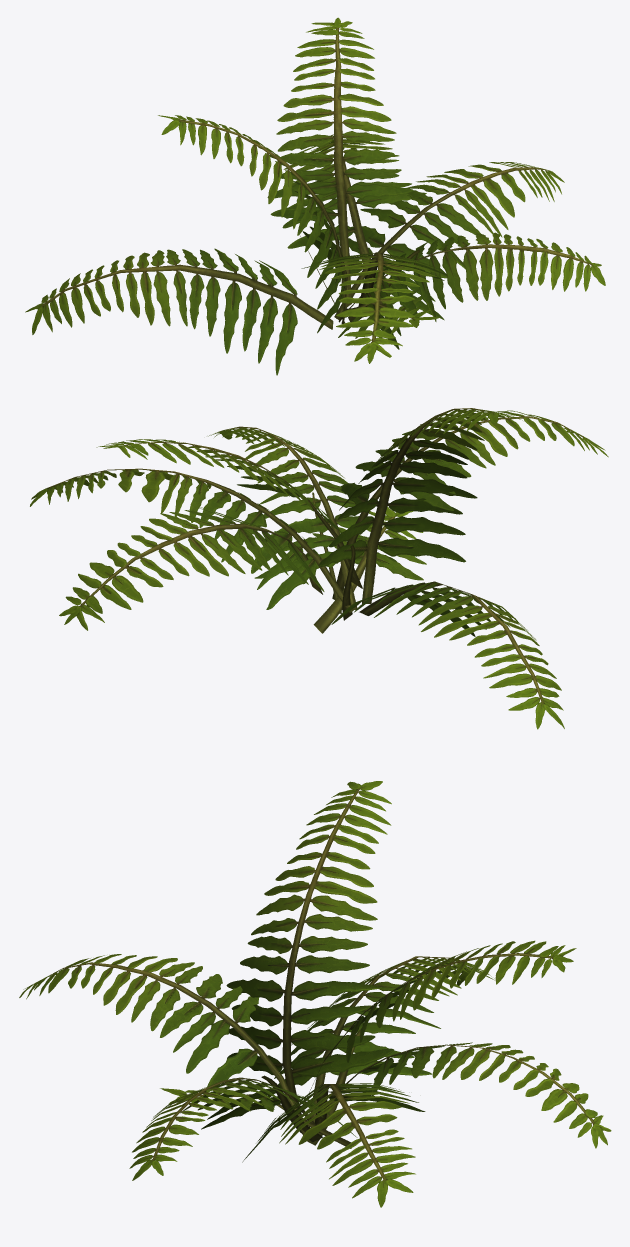
The model's file is fern2.FBX.
3 views of the same model, one above another, from view 1: azimuth 30°, elevation 25°; view 2: azimuth 150°, elevation 25°; view 3: azimuth 270°, elevation 25° (orthographic). The views are drawn at different scales.
Visible parts, largest first — view 1: FERN2_LOD0; view 2: FERN2_LOD0; view 3: FERN2_LOD0.
Part boxes in pixels (bbox=[...]): FERN2_LOD0: bbox=[25, 17, 605, 375]; FERN2_LOD0: bbox=[30, 408, 608, 729]; FERN2_LOD0: bbox=[19, 781, 611, 1207].
Size of what is drawn, in the model's own units: 232 by 108 by 202.
